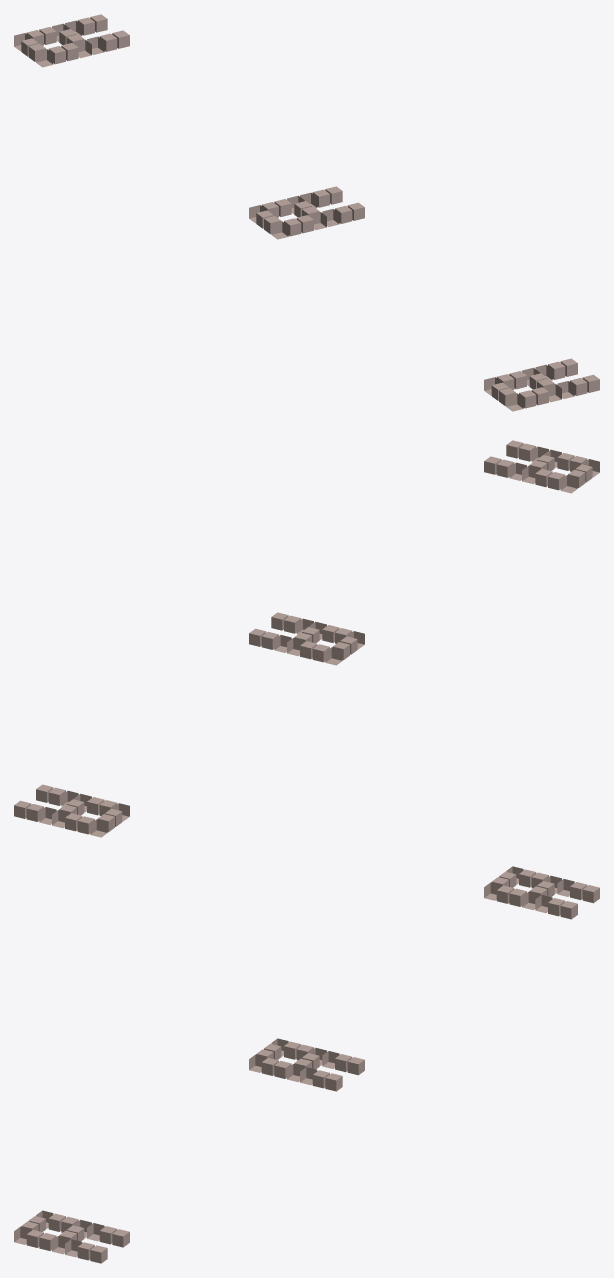
3 renders of one model, top to bottom at view 1: azimuth 30°, elevation 25°; view 2: azimuth 150°, elevation 25°; view 3: azimuth 330°, elevation 25°, orthographic.
Size of the model in its own units: 0.4118 by 0.0497 by 4.07.
